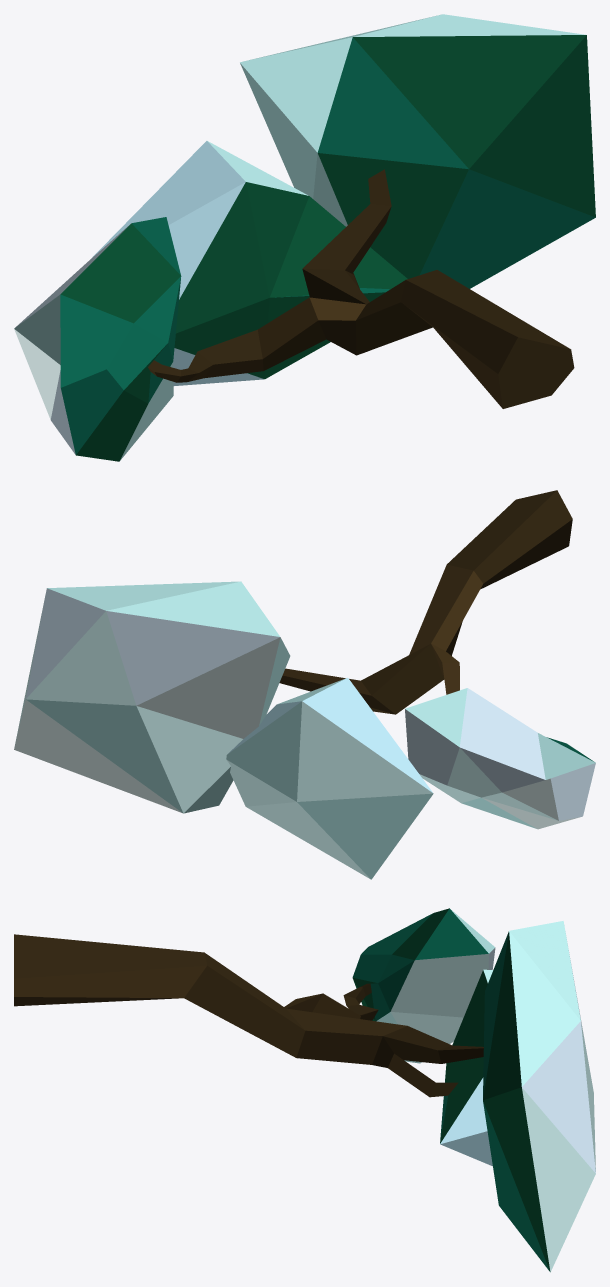
Rendered from winter_tree_7.fbx.
3 renders of one model, top to bottom at view 1: azimuth 30°, elevation 25°; view 2: azimuth 150°, elevation 25°; view 3: azimuth 270°, elevation 25°, orthographic. The views are drawn at different scales.
Visible parts, largest first — view 1: winter_tree_7; view 2: winter_tree_7; view 3: winter_tree_7.
Part boxes in pixels (x1,y1,x2,y2): winter_tree_7: (14, 14, 595, 461); winter_tree_7: (14, 490, 595, 879); winter_tree_7: (14, 908, 595, 1272).
Size of the model in its own units: 174 by 83.32 by 158.
